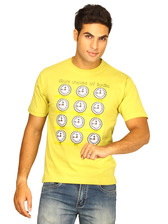clothoes: (25, 55, 150, 184)
